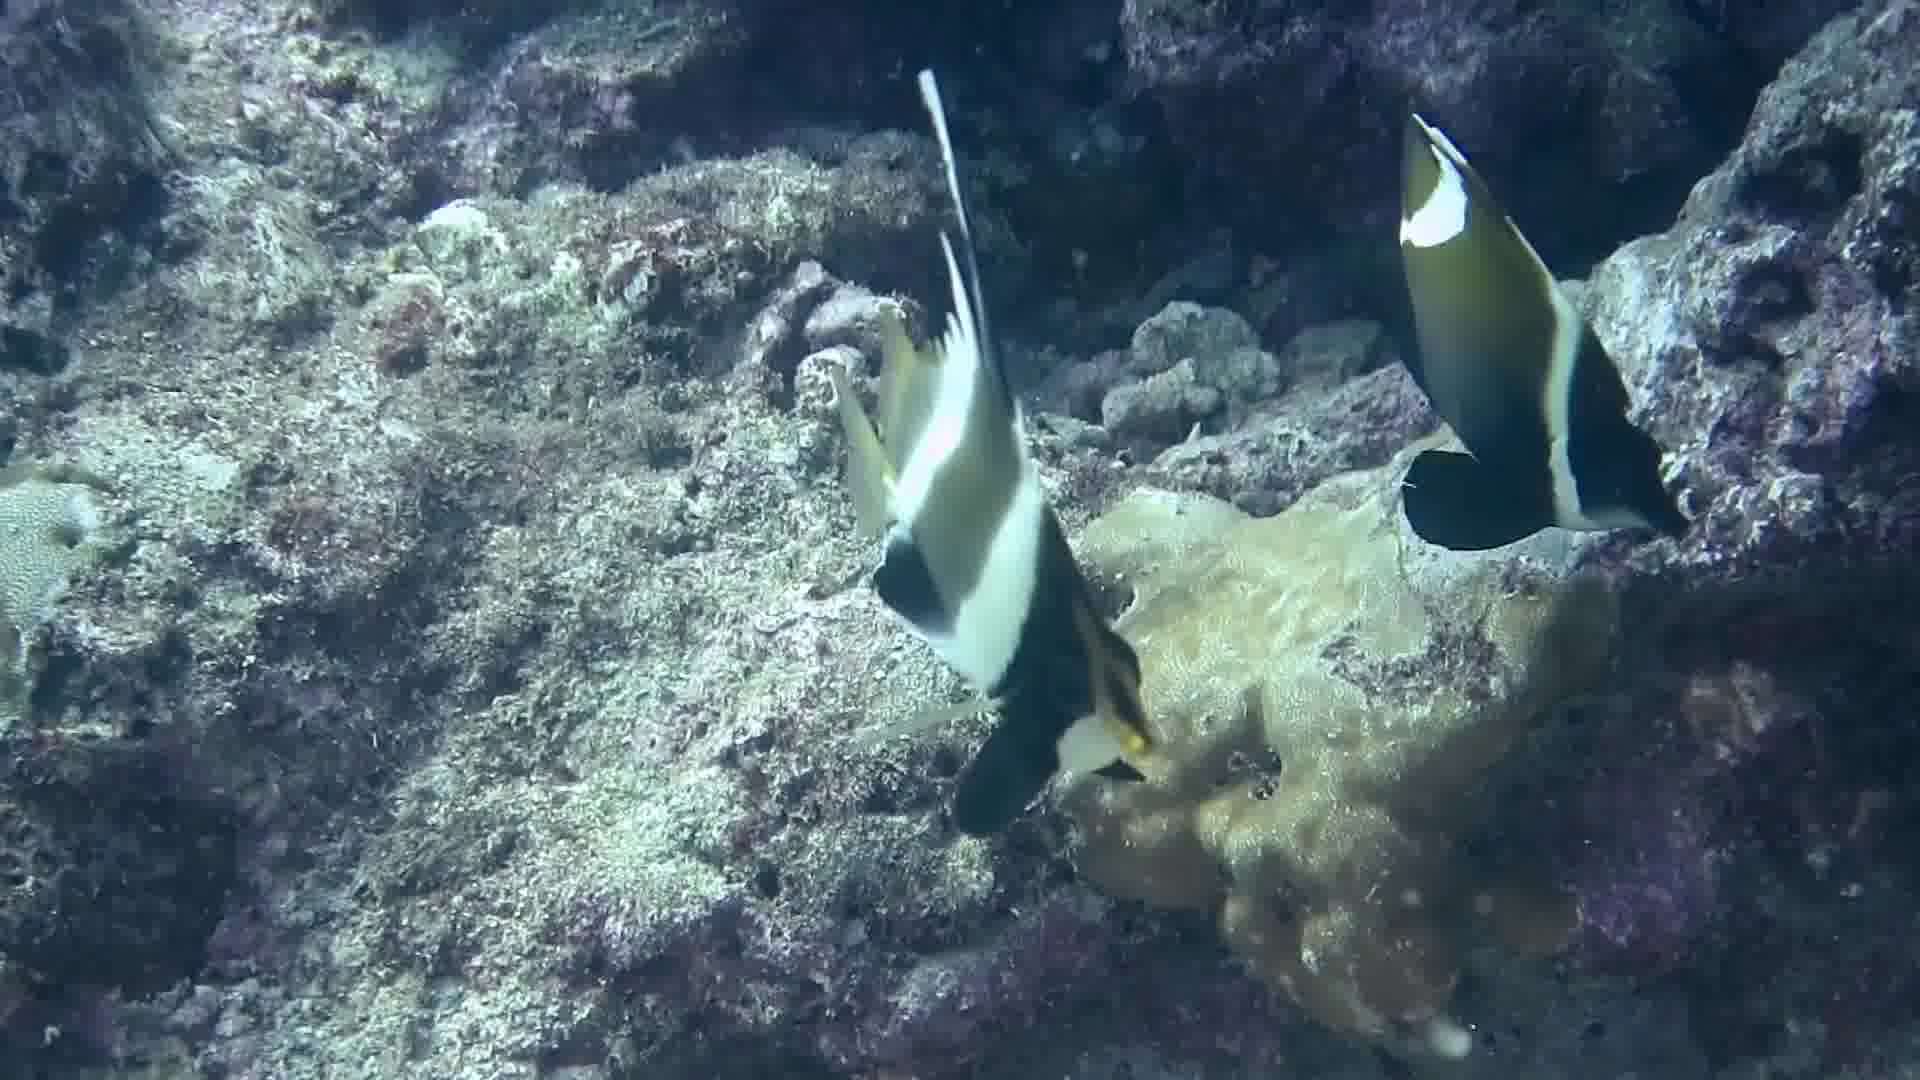Heniochus chrysostomus: (785, 1, 1222, 855), (1333, 1, 1725, 629)
